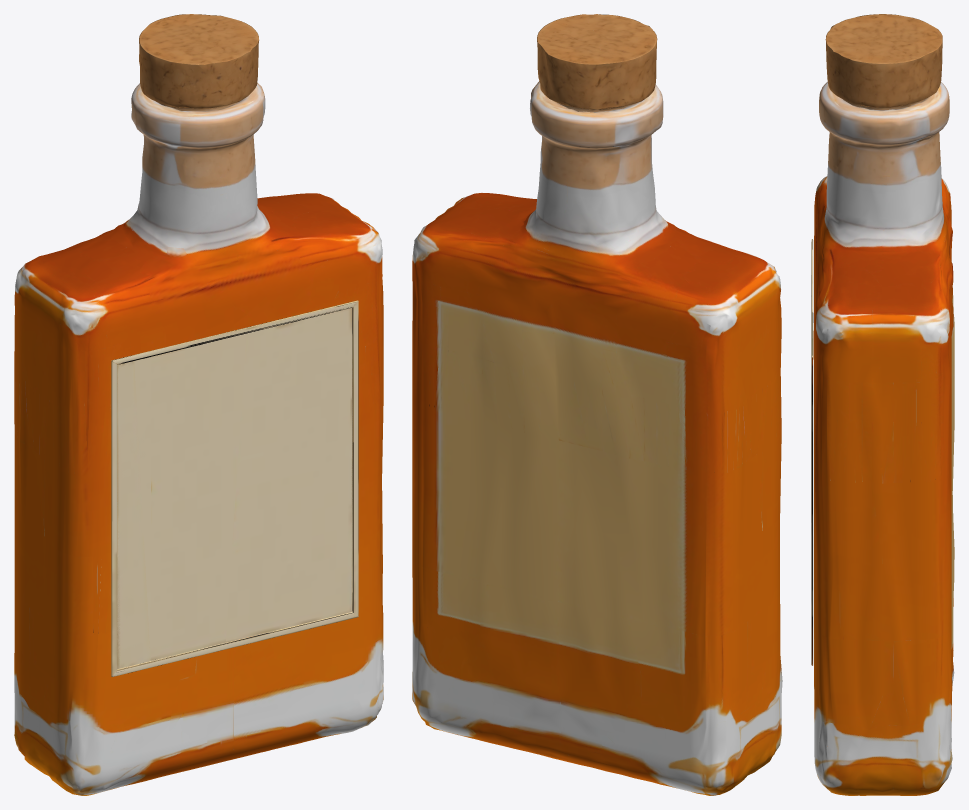
File: desktop.glb
3 views of the same model, side by side, from view 1: azimuth 30°, elevation 25°; view 2: azimuth 150°, elevation 25°; view 3: azimuth 270°, elevation 25° (orthographic). The views are drawn at different scales.
Parts seen in each view (by area): view 1: liquorbottle; view 2: liquorbottle; view 3: liquorbottle.
Boxes of the visible parts, x1,y1,x2,y2 form: liquorbottle: (14,14,383,795); liquorbottle: (412,14,782,795); liquorbottle: (811,14,954,795).
Bounding box in the file's own units: 0.1439 × 0.3001 × 0.0564.
1 material, 1 textured.
